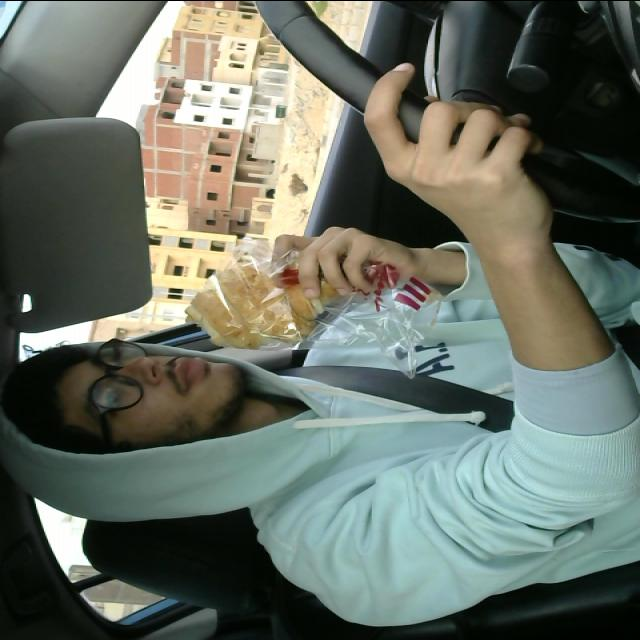eating: (179, 262, 338, 350)
